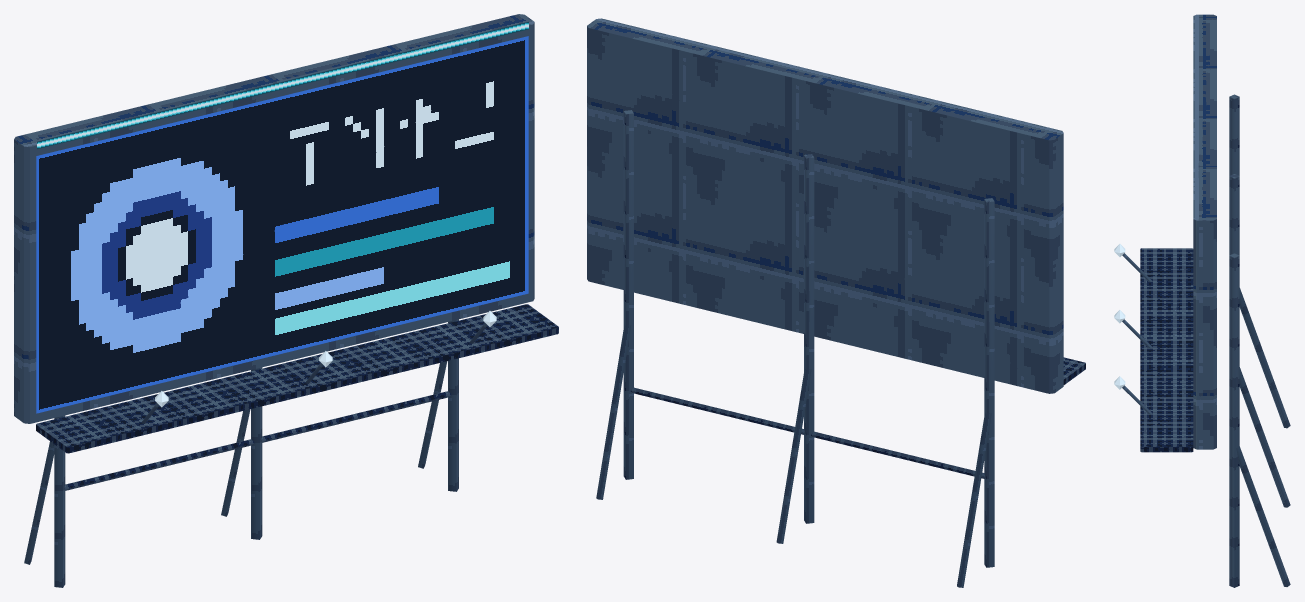
Rendered from cysign.billboard.glb.
3 renders of one model, left to right at view 1: azimuth 30°, elevation 25°; view 2: azimuth 150°, elevation 25°; view 3: azimuth 270°, elevation 25°, orthographic. The views are drawn at different scales.
Parts seen in each view (by area): view 1: kit_card_face, kit_panel, kit_truss; view 2: kit_panel, kit_truss; view 3: kit_panel, kit_truss.
Part boxes in pixels (bbox=[...]): kit_card_face: bbox=[36, 21, 528, 413]; kit_panel: bbox=[14, 14, 558, 453]; kit_truss: bbox=[24, 311, 496, 587]; kit_panel: bbox=[587, 18, 1085, 393]; kit_truss: bbox=[596, 110, 994, 587]; kit_panel: bbox=[1140, 14, 1216, 452]; kit_truss: bbox=[1114, 94, 1290, 587].
Bounding box in the file's own units: 8.3 × 7.4 × 3.
5 materials, 5 textured.
